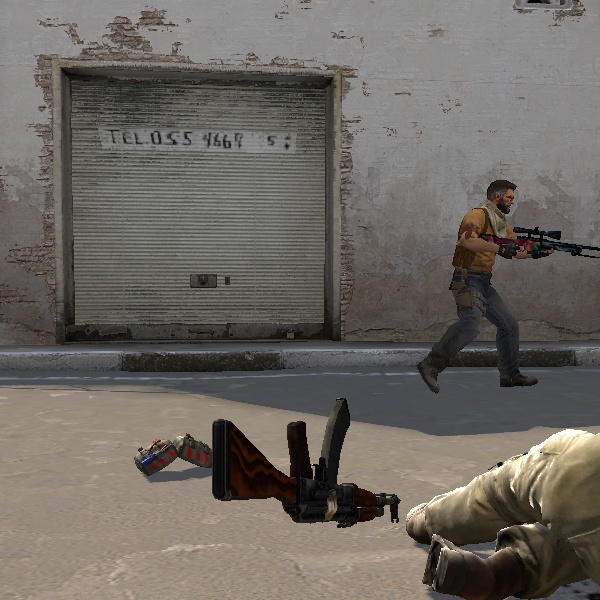t_body: (428, 174, 556, 397)
t_head: (479, 175, 525, 219)
